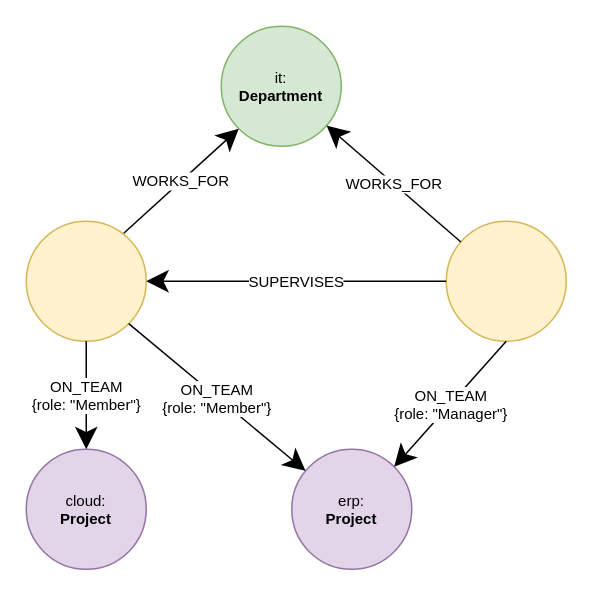
Image size: 593x596. Some labels were removed from this diagram. The shapes that lost their labels are listed below. From the top down, each one's centre as x and y in pixels, then its label:
At point 85,280: "art: Employee".
At point 505,280: "bob: Employee".
